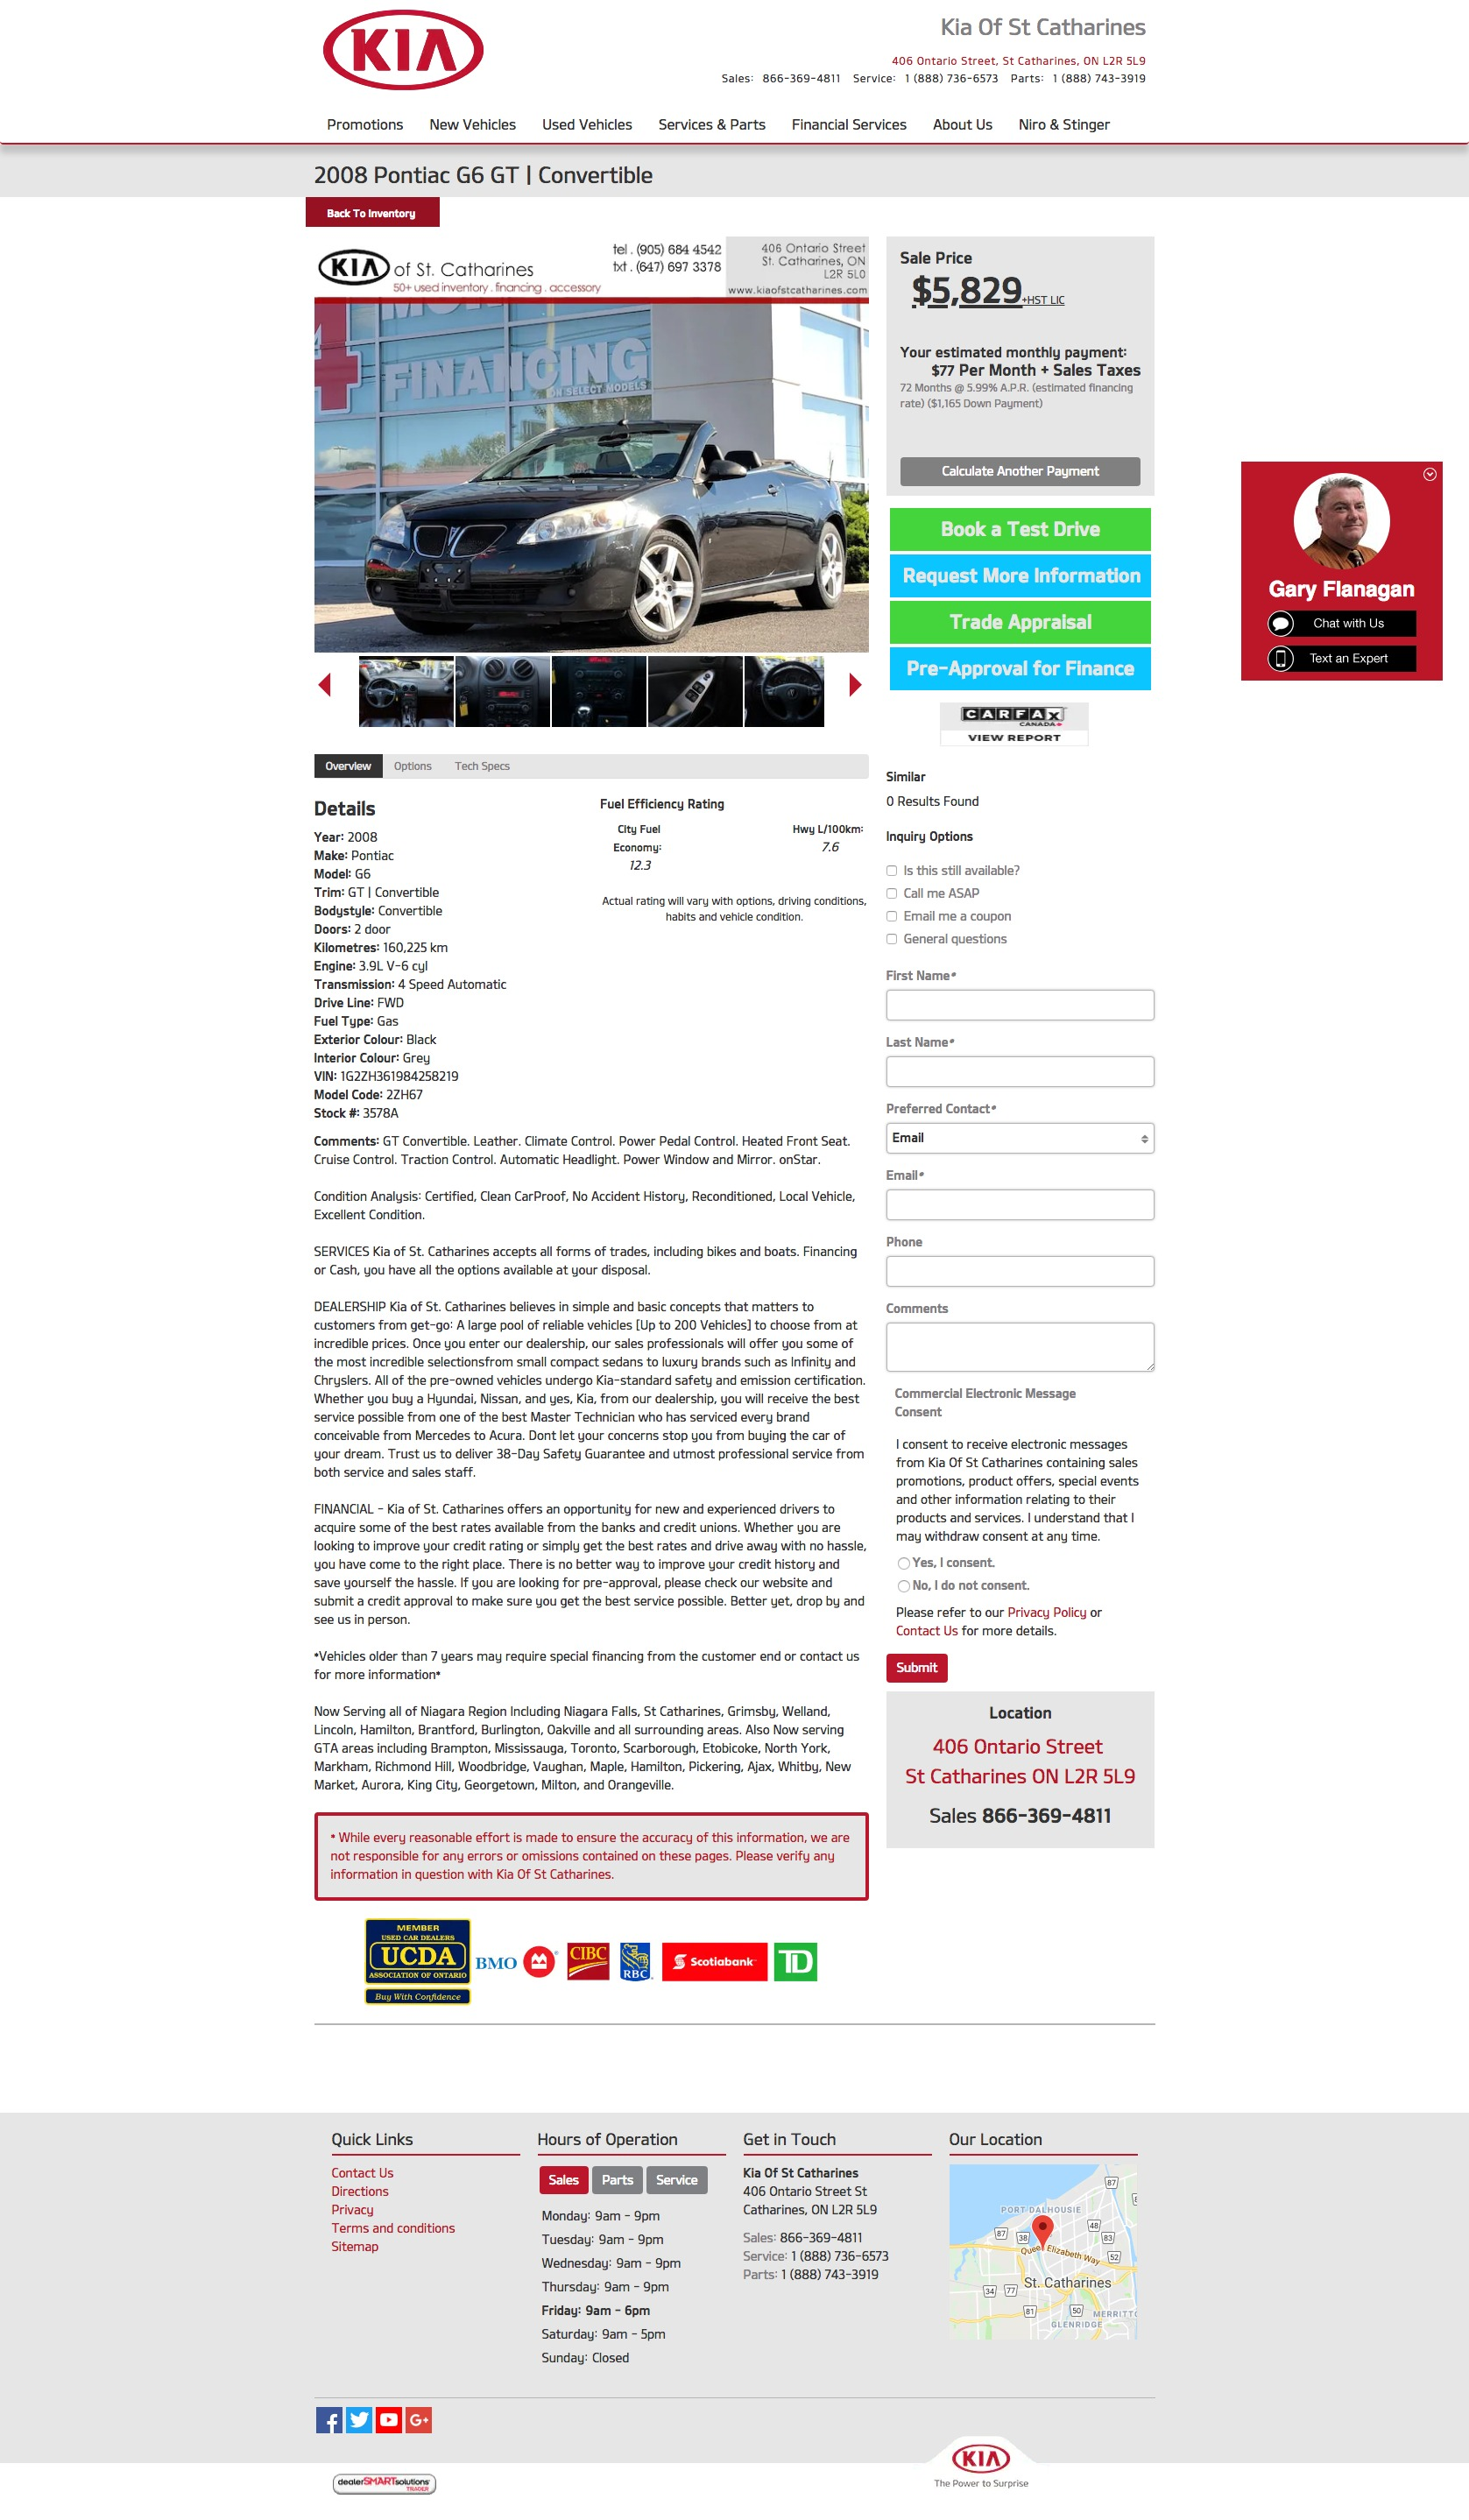car: (850, 673, 862, 698)
